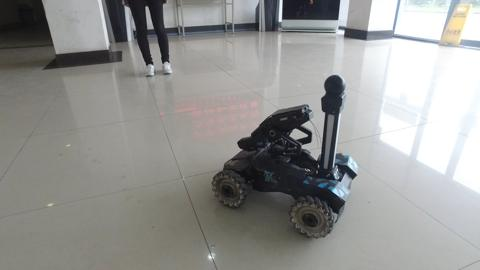chariot: (210, 72, 357, 239)
